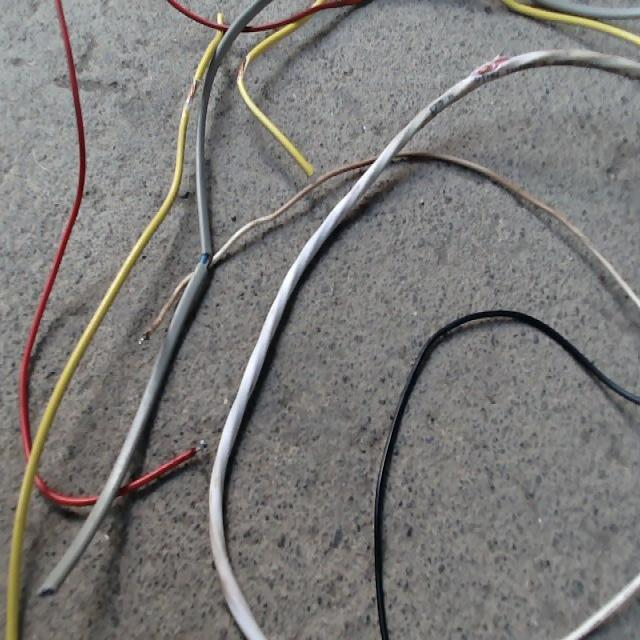-: (464, 51, 512, 81), (234, 51, 249, 80), (195, 248, 214, 269), (184, 78, 198, 106)
